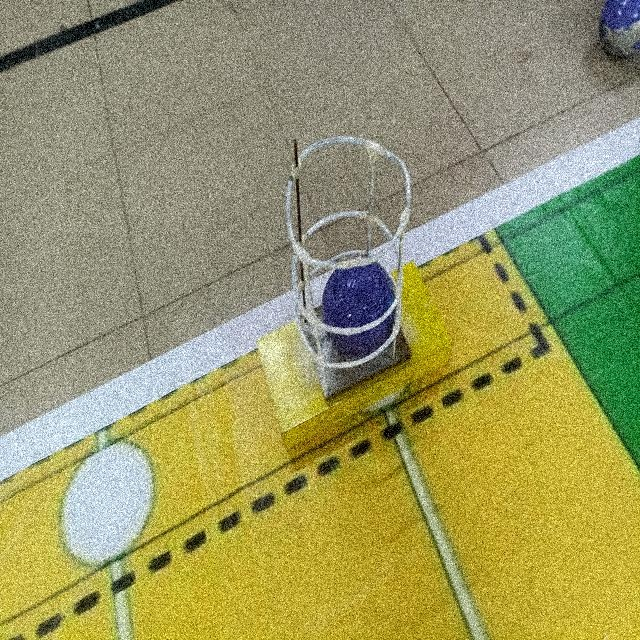purple_ball: (326, 258, 396, 349), (603, 2, 640, 51)
silo: (285, 132, 416, 402)
